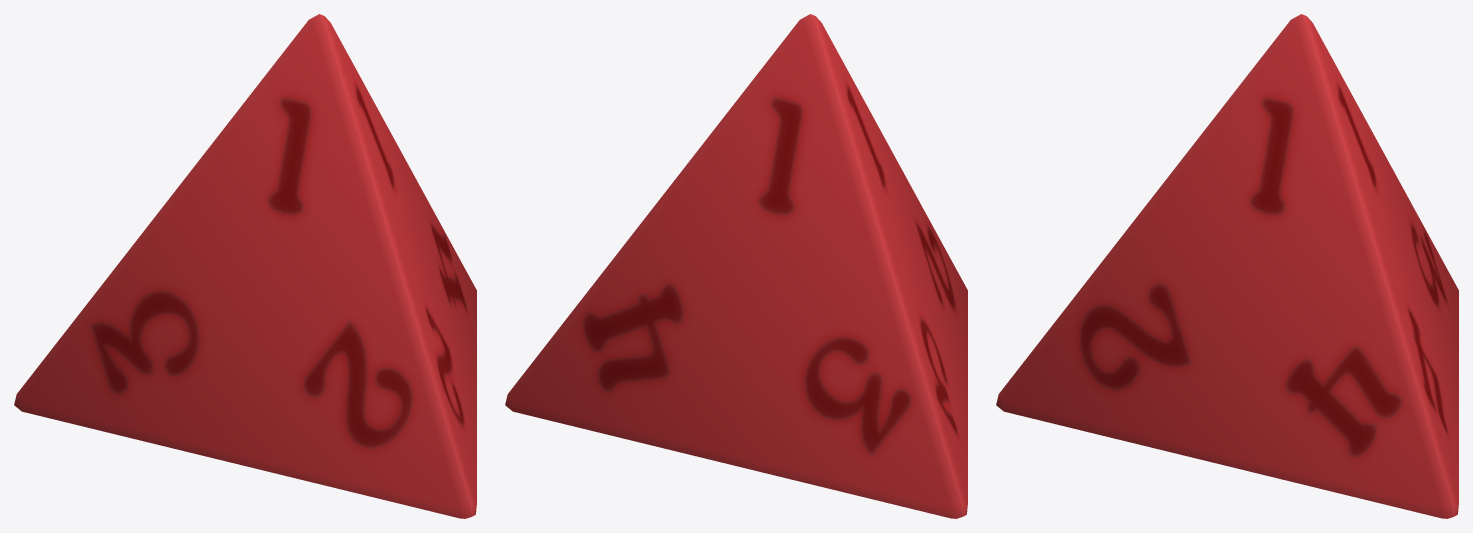
The model's file is KFB_BGB_D4_red.r1.glb.
The picture shows the model from 3 angles, left to right: view 1: azimuth 30°, elevation 25°; view 2: azimuth 150°, elevation 25°; view 3: azimuth 270°, elevation 25°; orthographic projection.
Visible parts, largest first — view 1: KFB_BGB_D4_red; view 2: KFB_BGB_D4_red; view 3: KFB_BGB_D4_red.
Boxes of the visible parts, box(x1,y1,x2,y2) form: KFB_BGB_D4_red: box(14, 14, 476, 518); KFB_BGB_D4_red: box(505, 14, 967, 518); KFB_BGB_D4_red: box(996, 14, 1458, 518).
Size of the model in its own units: 2.6 by 2.16 by 2.27.
Materials: 1 (1 with a texture image).
